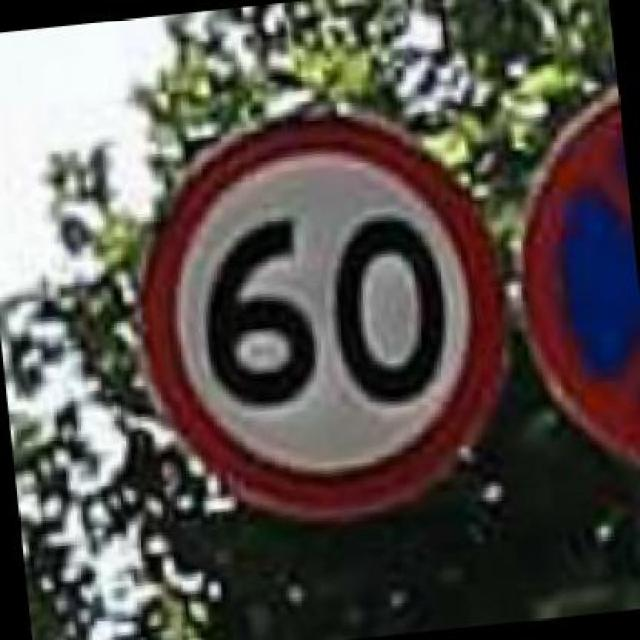Limite-60: (137, 104, 509, 522)
